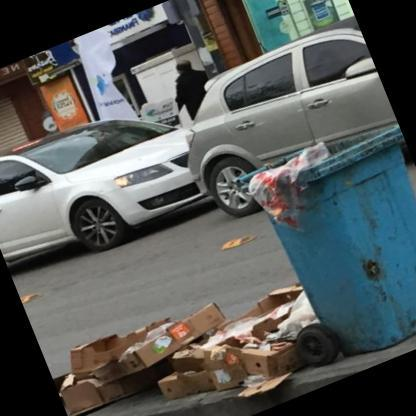Garbage: (47, 271, 306, 415), (179, 280, 320, 416)
